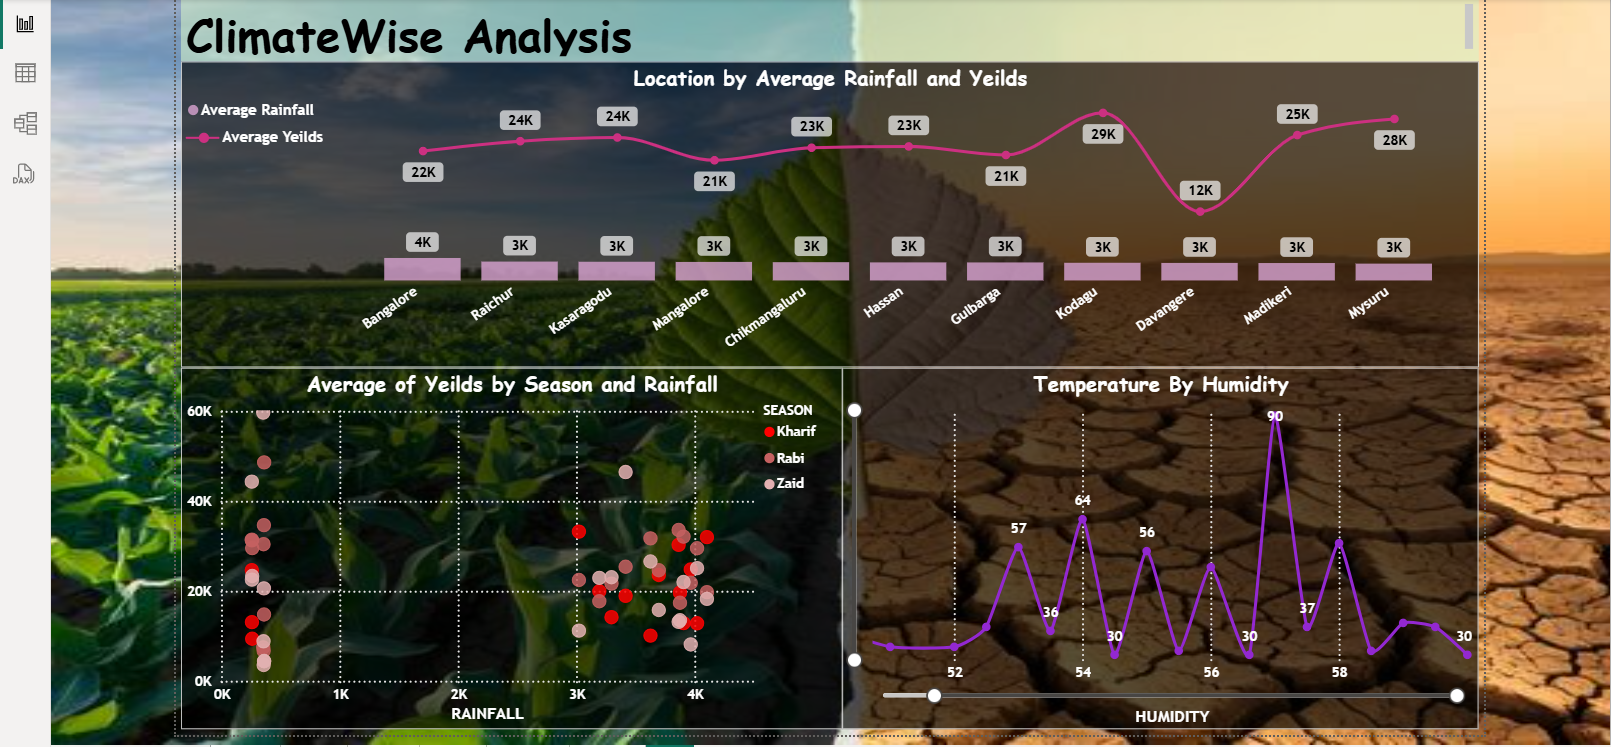

The page's visual inventory and layout, read from the dashboard file:
{"tool":"powerbi","page":{"name":"cws","canvas":[1280,720],"ordinal":1},"visuals":[{"type":"scatterChart","title":"Average of Yeilds by Season and Rainfall","fields":{"X":["AGRI.RAINFALL"],"Y":["Avg(AGRI.YEILDS)"],"Series":["AGRI.SEASON"]},"box":[4.9,360.7,646.9,353.4],"z":0},{"type":"lineClusteredColumnComboChart","title":"Location by Average Rainfall and Yeilds","fields":{"Category":["AGRI.LOCATION"],"Y":["Avg(AGRI.RAINFALL)"],"Y2":["Avg(AGRI.YEILDS)"]},"box":[4.9,61.1,1269.3,299.6],"z":1000},{"type":"lineChart","title":"Temperature By Humidity","fields":{"Y":["Count(AGRI.TEMPERATURE)"],"Category":["AGRI.HUMIDITY"]},"box":[651.8,360.7,622.4,353.4],"z":2000},{"type":"textbox","box":[4.9,0,1269.3,61.1],"z":3000}]}

Visuals, with their boxes in screenshot pixels (x1, y1, x2, y2):
"Average of Yeilds by Season and Rainfall" scatterChart: (177,365,839,726)
"Location by Average Rainfall and Yeilds" lineClusteredColumnComboChart: (177,58,1475,365)
"Temperature By Humidity" lineChart: (839,365,1475,726)
textbox: (177,0,1475,58)
